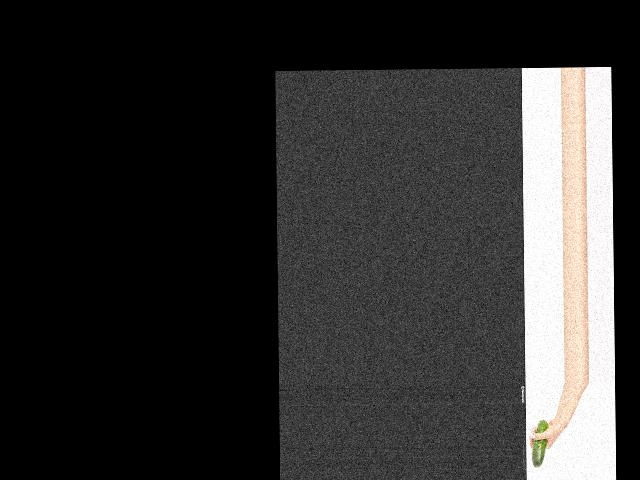cucumber: (530, 420, 548, 468)
